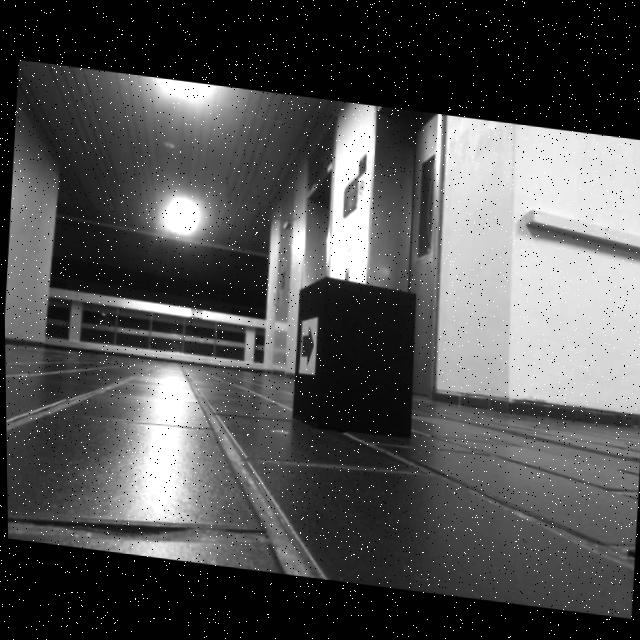RIGHT: (301, 323, 312, 363)
